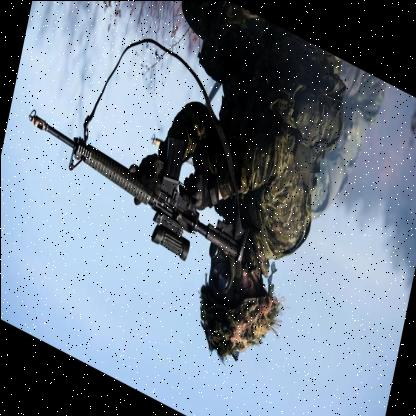rifle: (17, 63, 262, 283)
